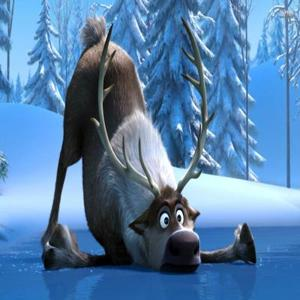sven: (61, 21, 255, 285)
